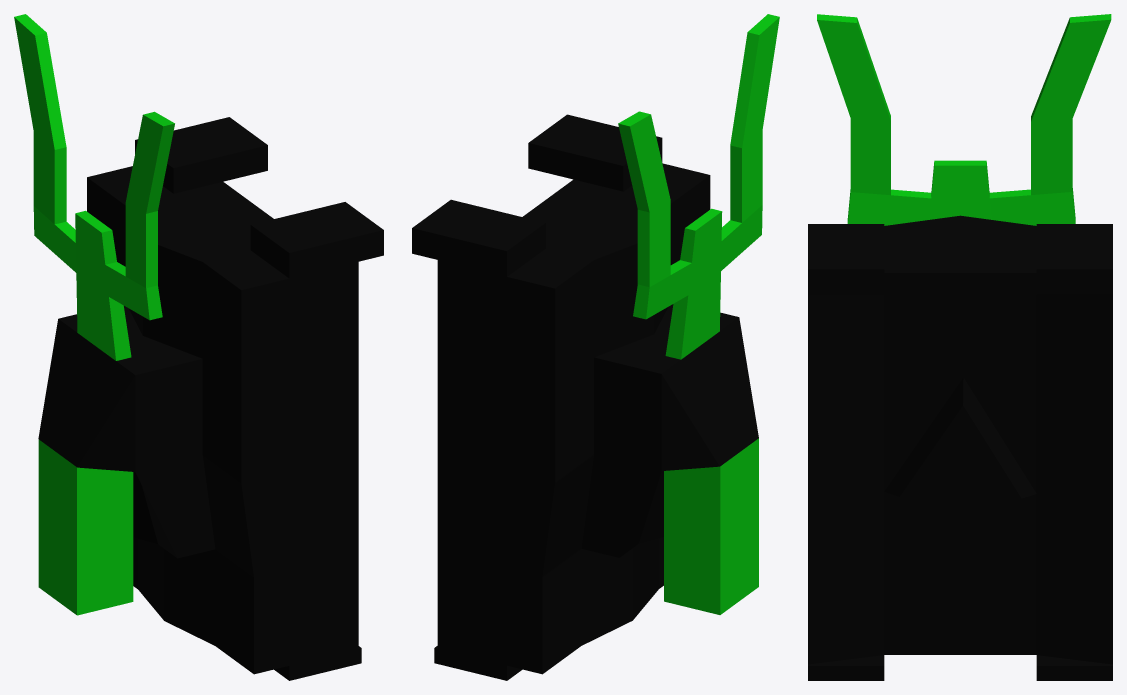
File: PulsePack.fbx
3 views of the same model, side by side, from view 1: azimuth 30°, elevation 25°; view 2: azimuth 150°, elevation 25°; view 3: azimuth 270°, elevation 25° (orthographic).
Visible parts, largest first — view 1: Cube, Cube.001, Cube.002; view 2: Cube, Cube.001, Cube.002; view 3: Cube, Cube.001.
Boxes of the visible parts, box(x1,y1,x2,y2) form: Cube: box(38, 117, 383, 680); Cube.001: box(14, 14, 174, 360); Cube.002: box(38, 439, 133, 615); Cube: box(412, 114, 758, 680); Cube.001: box(618, 14, 779, 359); Cube.002: box(664, 438, 758, 614); Cube: box(808, 215, 1112, 680); Cube.001: box(817, 14, 1111, 225).
Bounding box in the file's own units: 186 × 415 × 200.
